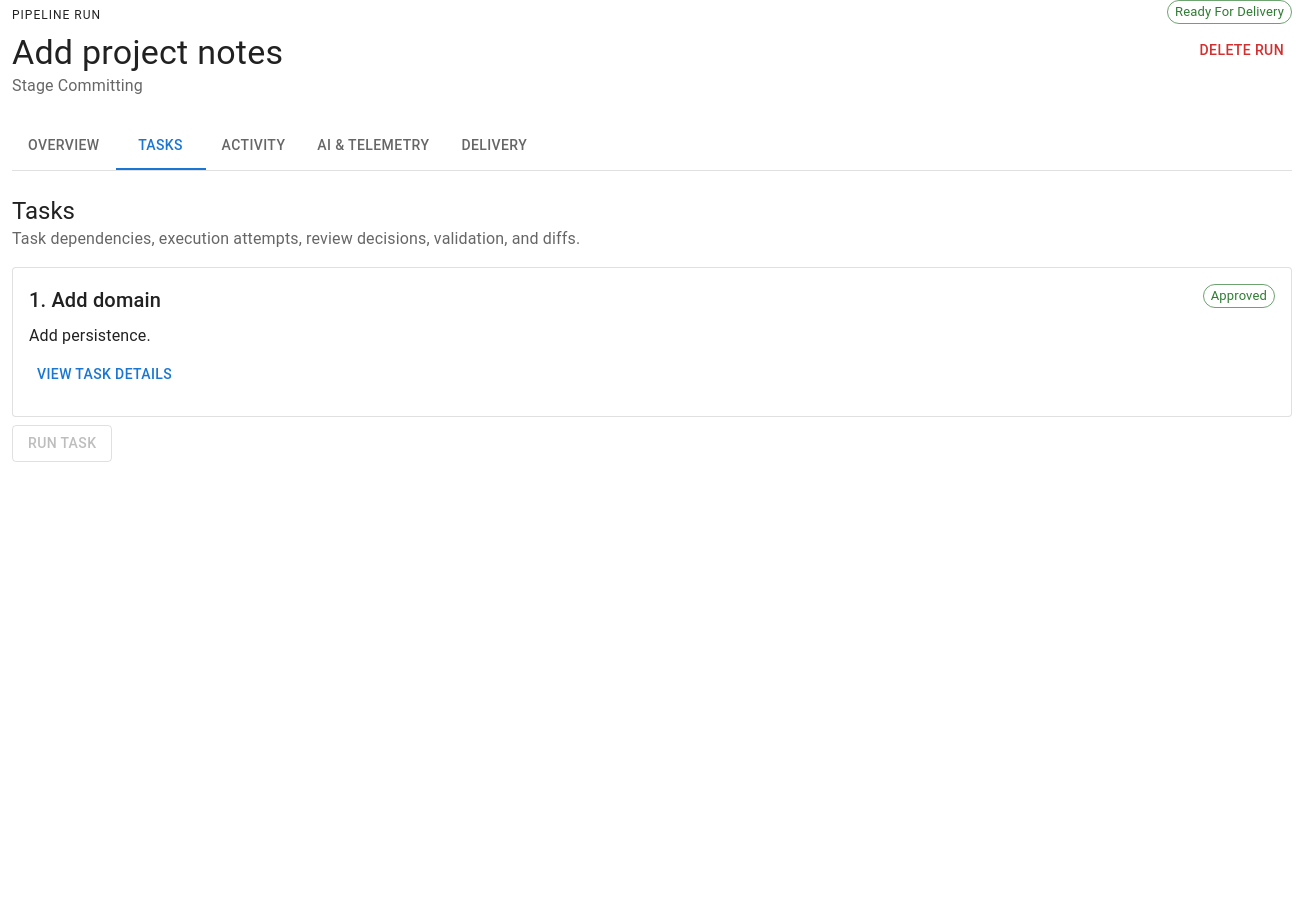
Scenario: run detail routing › shows task execution details only in Tasks and focuses one card
The width and height of the screenshot is (1304, 900).
Step 1. Click the button "View task details" → (105, 374), box [29,356,180,392]
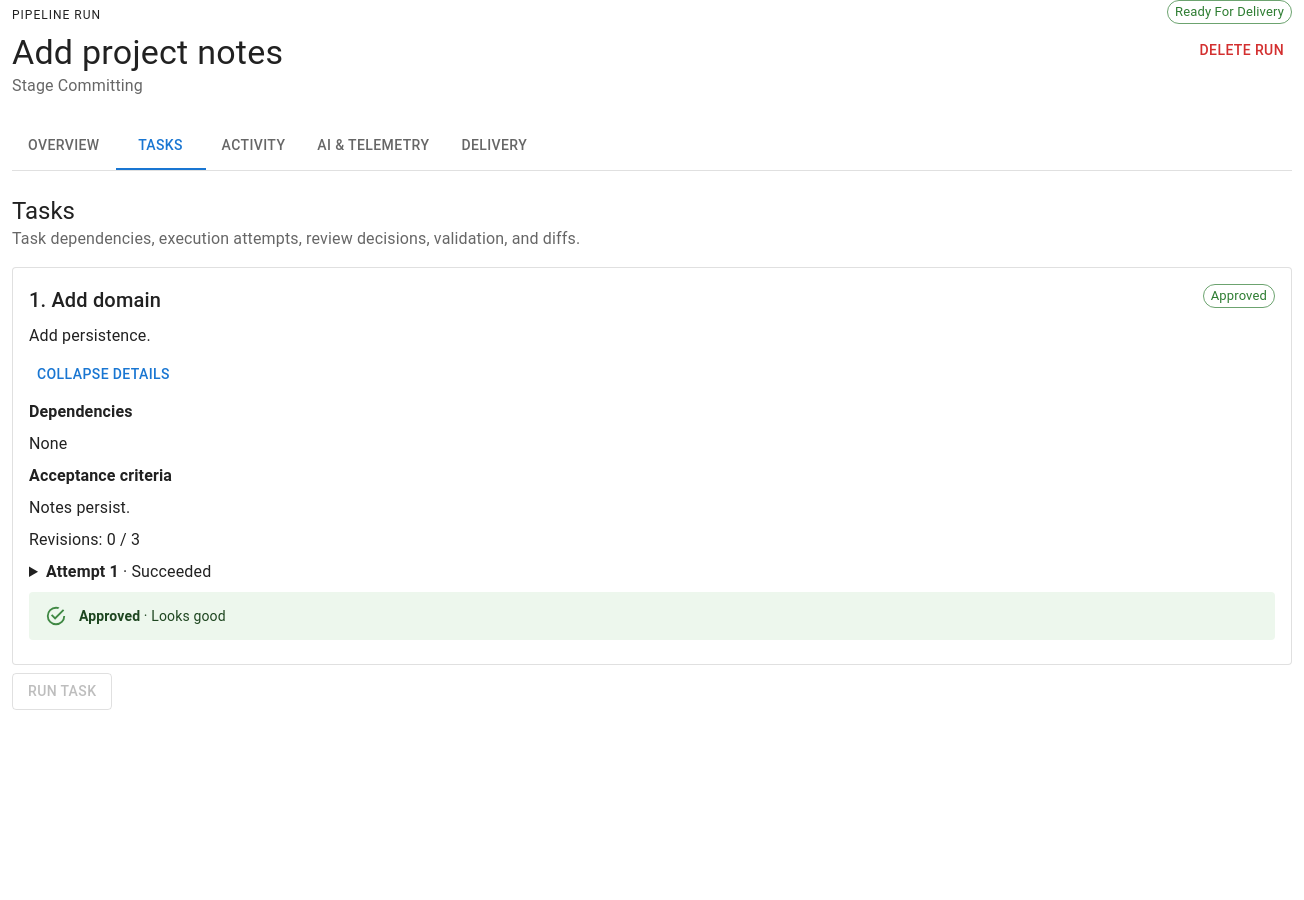
Now the text "Acceptance criteria" is shown, box [29,466,172,485]
